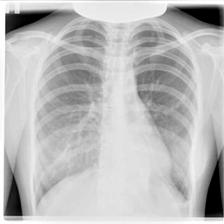tuberculosis: (28, 13, 205, 215)
